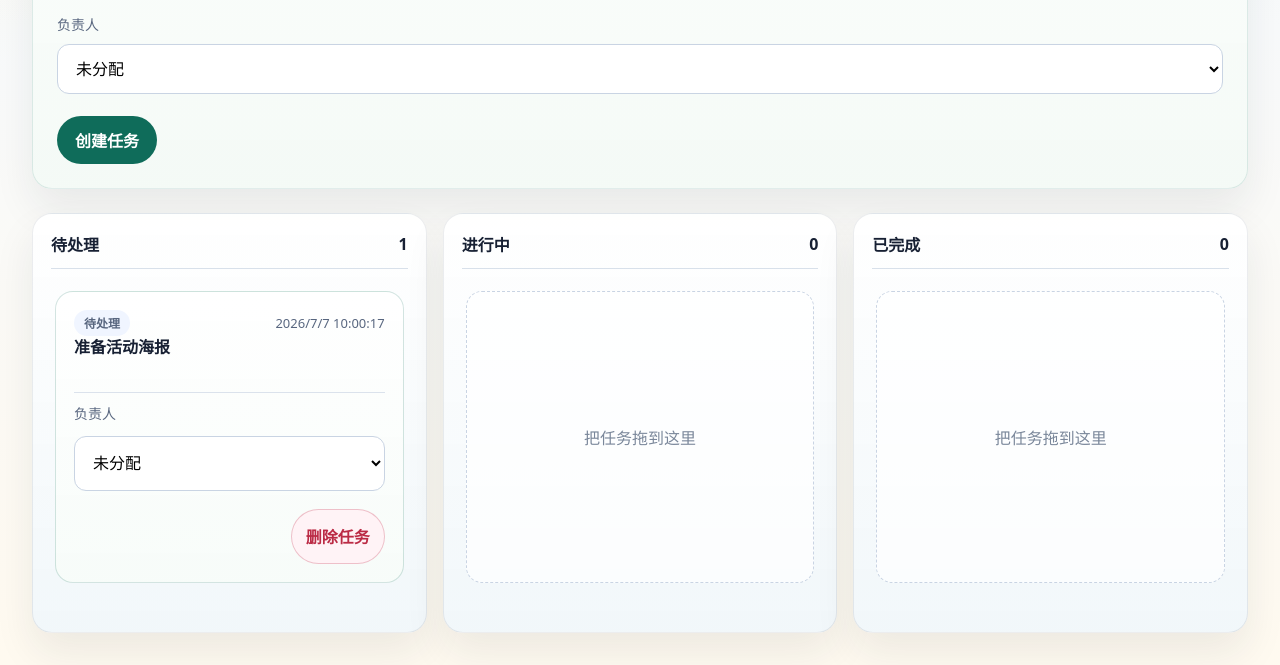
ProjectBoardPage › deletes a task from the current board
The image size is (1280, 665).
(page scrolled)
Check: the heading "准备活动海报" is shown, box [74,336,170,358]
Click the button "删除任务".
click(338, 536)  # box [291,508,385,564]
(page scrolled)
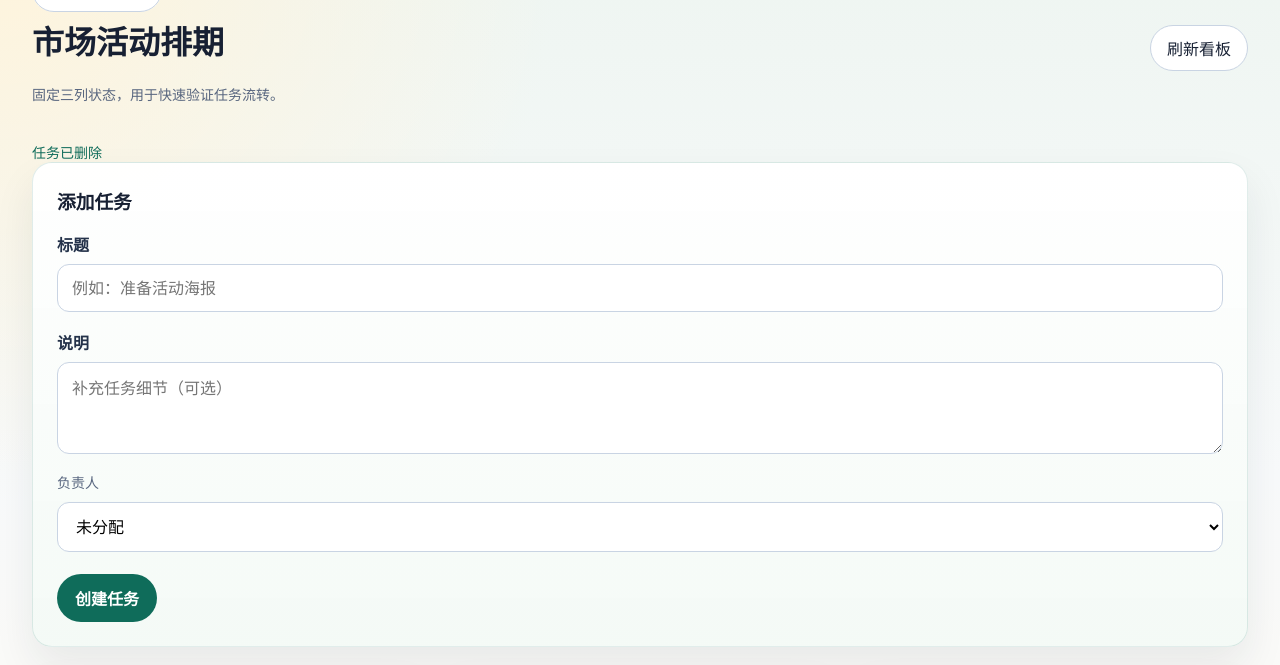
Check: the text "任务已删除" is shown, box [32,143,102,162]
